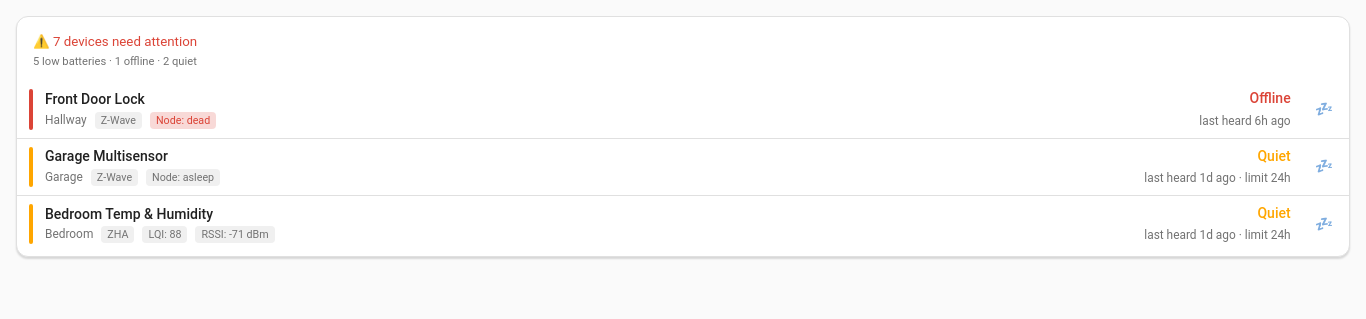
Test case: App › snoozes indefinitely, then says the device can be ignored instead
The image size is (1366, 319).
Check: the text "⚠️ 7 devices need attention" is shown, box 33,33 -> 197,52
Click the button named "Snooze Front Door Lock": click(1324, 109) 1307,94 -> 1341,125
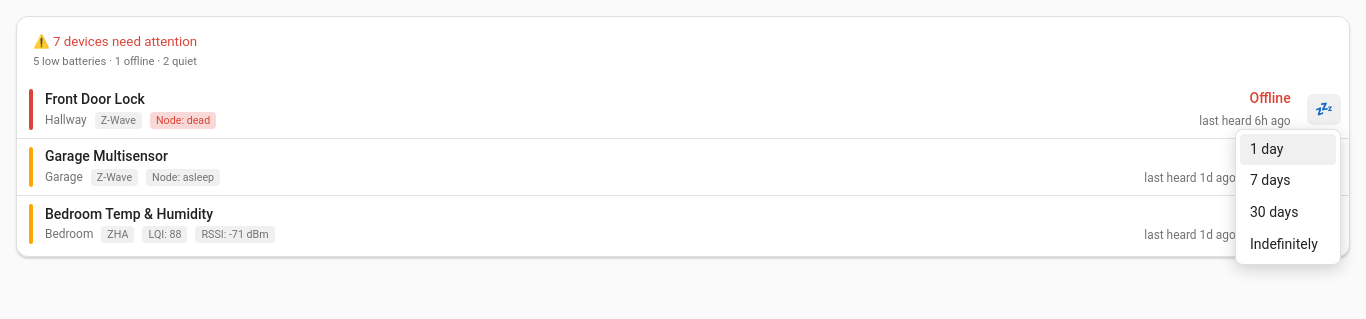
Click the menu item "Indefinitely": click(1288, 244) 1240,228 -> 1336,260
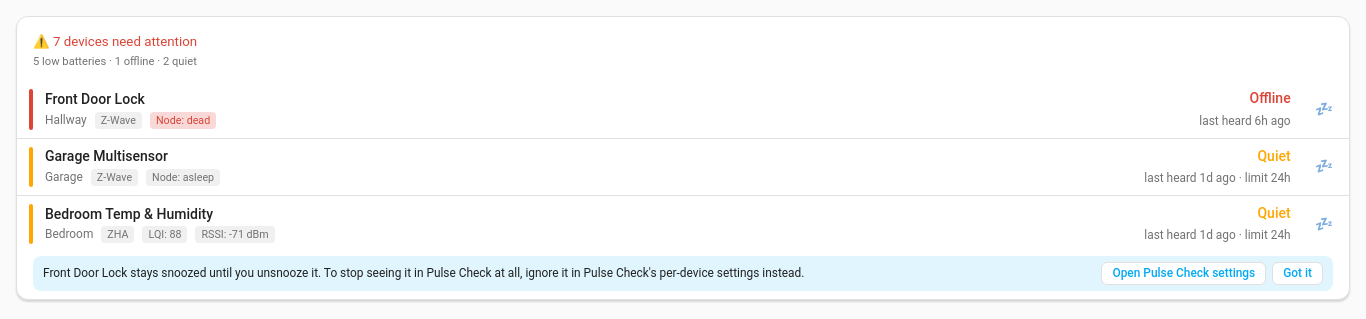
Click the button "Got it": click(1298, 273) 1272,262 -> 1323,285
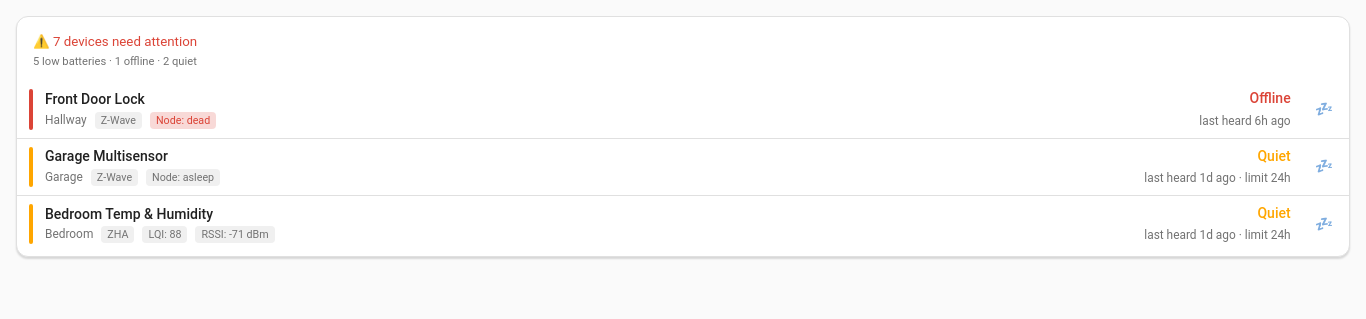
Check: the text "stays snoozed until you unsnooze it" is gone
